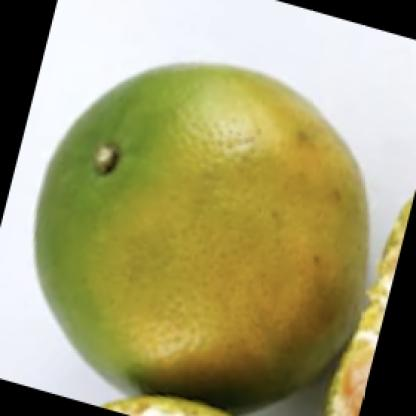fresh: (35, 64, 372, 416)
